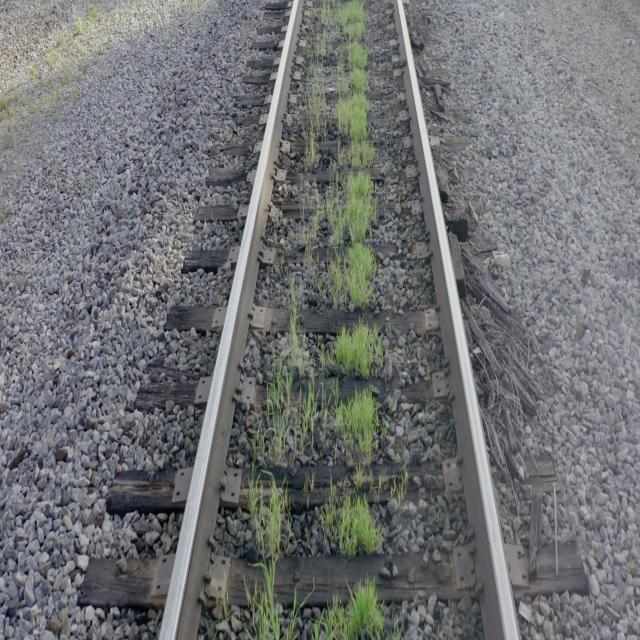Plant: (305, 0, 379, 309), (249, 482, 291, 638), (259, 369, 320, 464), (329, 391, 380, 464), (320, 496, 381, 556), (319, 584, 384, 638), (330, 322, 382, 376), (305, 51, 328, 162), (346, 578, 384, 640), (289, 300, 309, 373)
